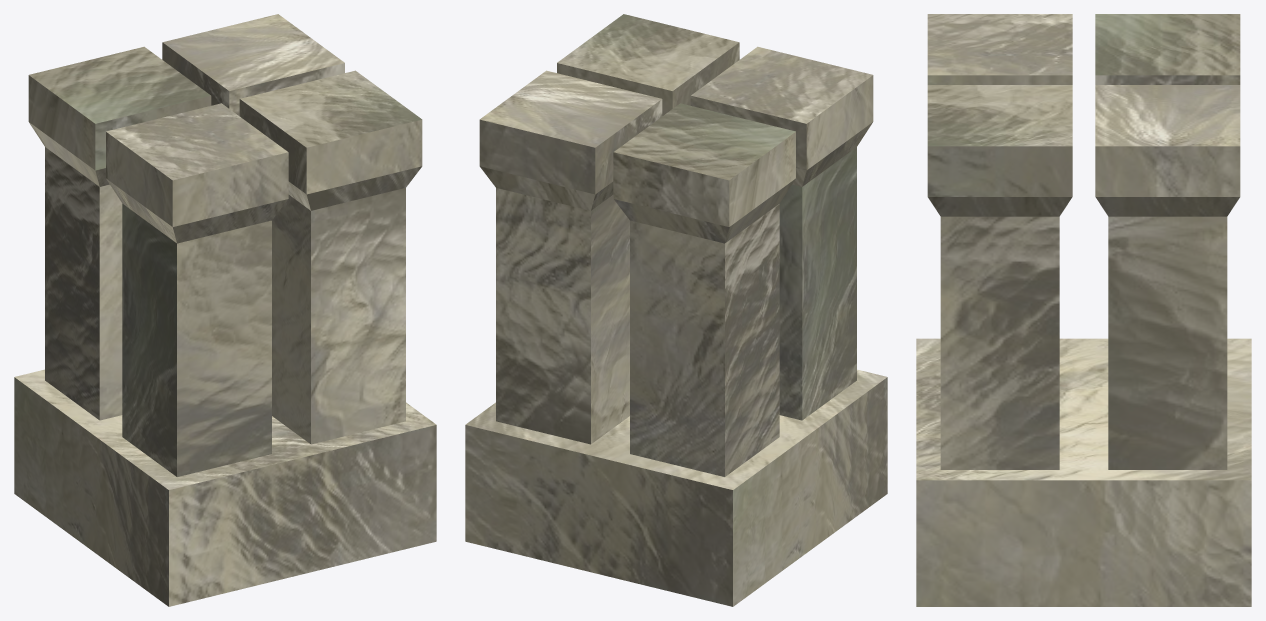
Rendered from boxes.dae.
The picture shows the model from 3 angles, left to right: view 1: azimuth 30°, elevation 25°; view 2: azimuth 150°, elevation 25°; view 3: azimuth 270°, elevation 25°; orthographic projection. The views are drawn at different scales.
Visible parts, largest first — view 1: SketchUp_001; view 2: SketchUp_001; view 3: SketchUp_001.
Part boxes in pixels (left/top/right/bottom): SketchUp_001: left=14, top=14, right=436, bottom=606; SketchUp_001: left=465, top=14, right=887, bottom=606; SketchUp_001: left=916, top=14, right=1251, bottom=606.
Bounding box in the file's own units: 2.4 × 2.4 × 3.6.
